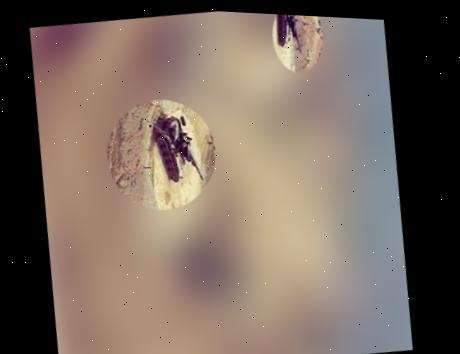tank: (148, 110, 211, 191), (272, 14, 307, 61)
